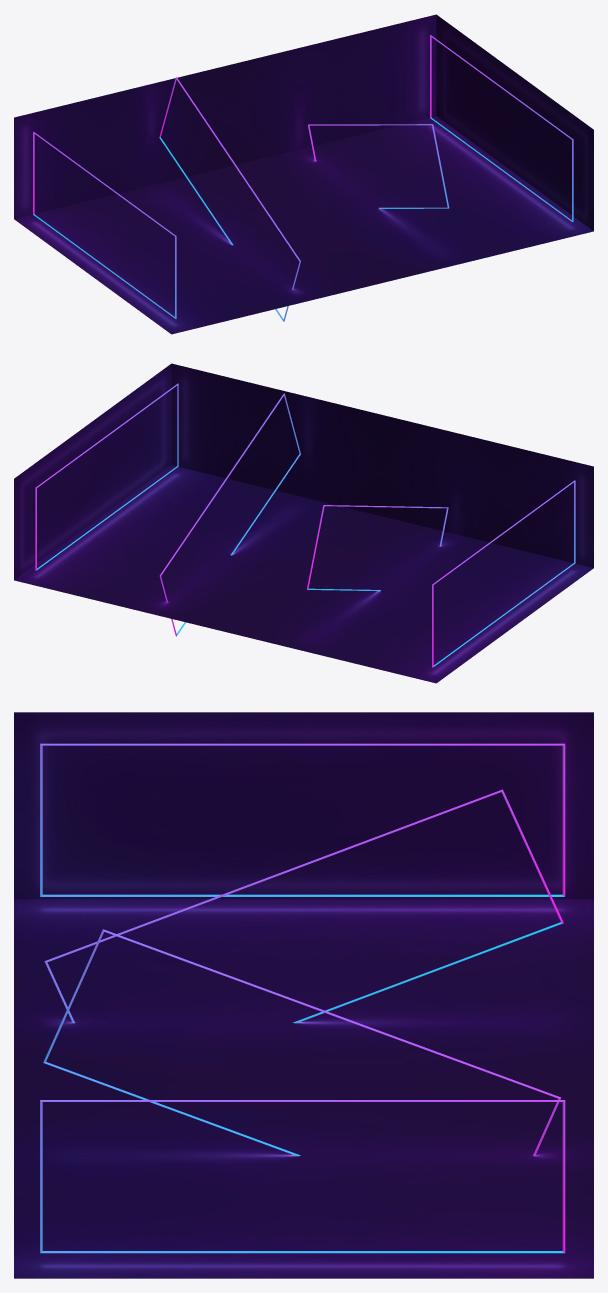
File: neon-lobby.glb
3 renders of one model, top to bottom at view 1: azimuth 30°, elevation 25°; view 2: azimuth 150°, elevation 25°; view 3: azimuth 270°, elevation 25°, orthographic. The views are drawn at different scales.
Visible parts, largest first — view 1: Cube.001_0, Plane.004_1, Plane.007_4, Plane.006_3, Plane.005_2; view 2: Cube.001_0, Plane.004_1, Plane.007_4, Plane.005_2, Plane.006_3; view 3: Cube.001_0, Plane.007_4, Plane.004_1, Plane.006_3, Plane.005_2.
Part boxes in pixels (<box>): Cube.001_0: <box>14,14,593,334</box>; Plane.004_1: <box>430,35,573,222</box>; Plane.007_4: <box>33,131,176,318</box>; Plane.006_3: <box>159,77,300,321</box>; Plane.005_2: <box>308,124,449,208</box>; Cube.001_0: <box>14,363,593,683</box>; Plane.004_1: <box>35,383,178,570</box>; Plane.007_4: <box>432,480,575,667</box>; Plane.005_2: <box>159,393,300,636</box>; Plane.006_3: <box>307,505,448,591</box>; Cube.001_0: <box>14,712,593,1278</box>; Plane.007_4: <box>40,743,565,896</box>; Plane.004_1: <box>40,1100,565,1253</box>; Plane.006_3: <box>44,789,563,1023</box>; Plane.005_2: <box>43,929,561,1156</box>.
Bounding box in the file's own units: 104 × 39.52 × 67.17.
2 materials, 2 textured.
